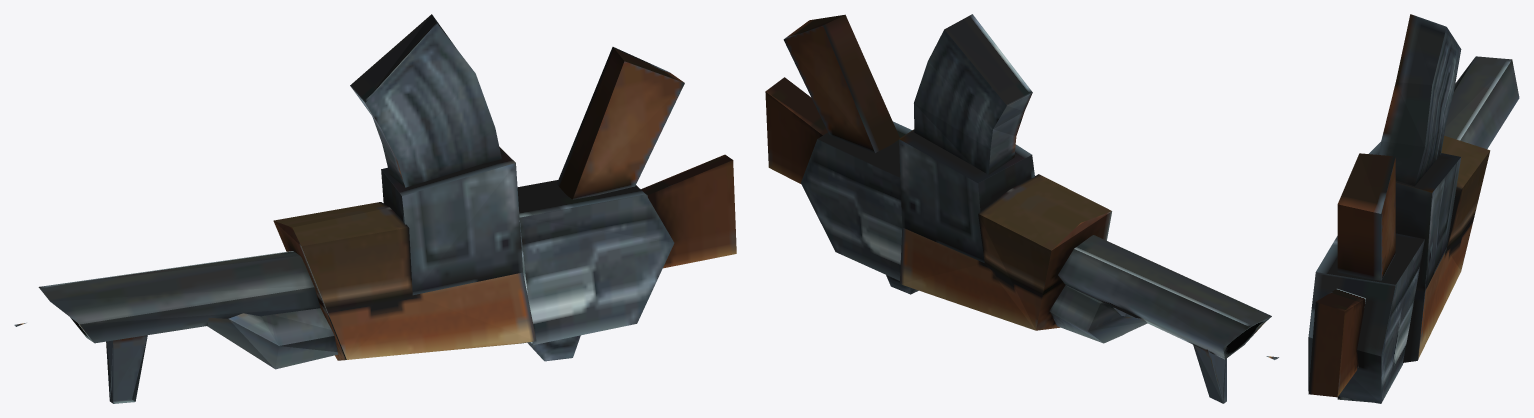
Rendered from TRIFLE.obj.
3 views of the same model, side by side, from view 1: azimuth 30°, elevation 25°; view 2: azimuth 150°, elevation 25°; view 3: azimuth 270°, elevation 25° (orthographic). The views are drawn at different scales.
Parts seen in each view (by area): view 1: Node 0; view 2: Node 0; view 3: Node 0.
Boxes of the visible parts, <box> form: Node 0: <box>38,14,736,403</box>; Node 0: <box>765,14,1271,403</box>; Node 0: <box>1308,14,1519,403</box>.
Size of the model in its own units: 1.01 by 0.51 by 0.29.
2 materials, 2 textured.
